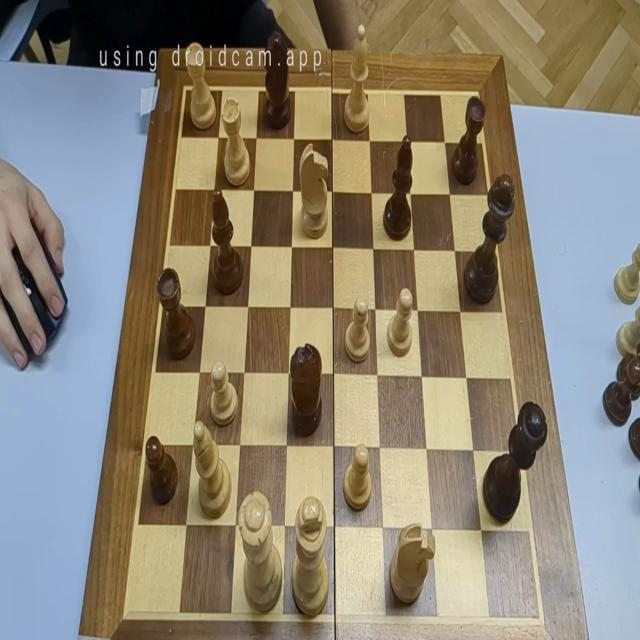black_bishop: (212, 188, 243, 294), (383, 136, 413, 240)
black_king: (464, 174, 515, 304)
black_knight: (290, 343, 322, 437), (263, 31, 291, 129)
black_pawn: (146, 436, 178, 506)
black_queen: (484, 401, 548, 524)
black_rook: (157, 268, 196, 360), (451, 96, 486, 185)
white_bishop: (193, 420, 232, 519), (344, 24, 370, 132)
white_king: (292, 496, 328, 617)
white_knight: (390, 523, 436, 603), (300, 143, 328, 239)
white_pawn: (343, 444, 371, 511), (210, 361, 238, 426), (387, 288, 412, 357), (345, 296, 370, 362)
white_queen: (238, 491, 283, 612)
white_rook: (185, 42, 217, 130), (221, 97, 251, 186)
